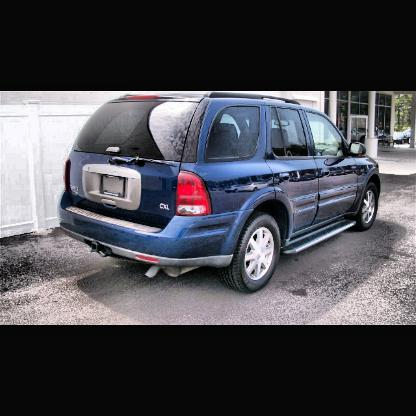Buick Rainier SUV 2007: (58, 93, 383, 297)
